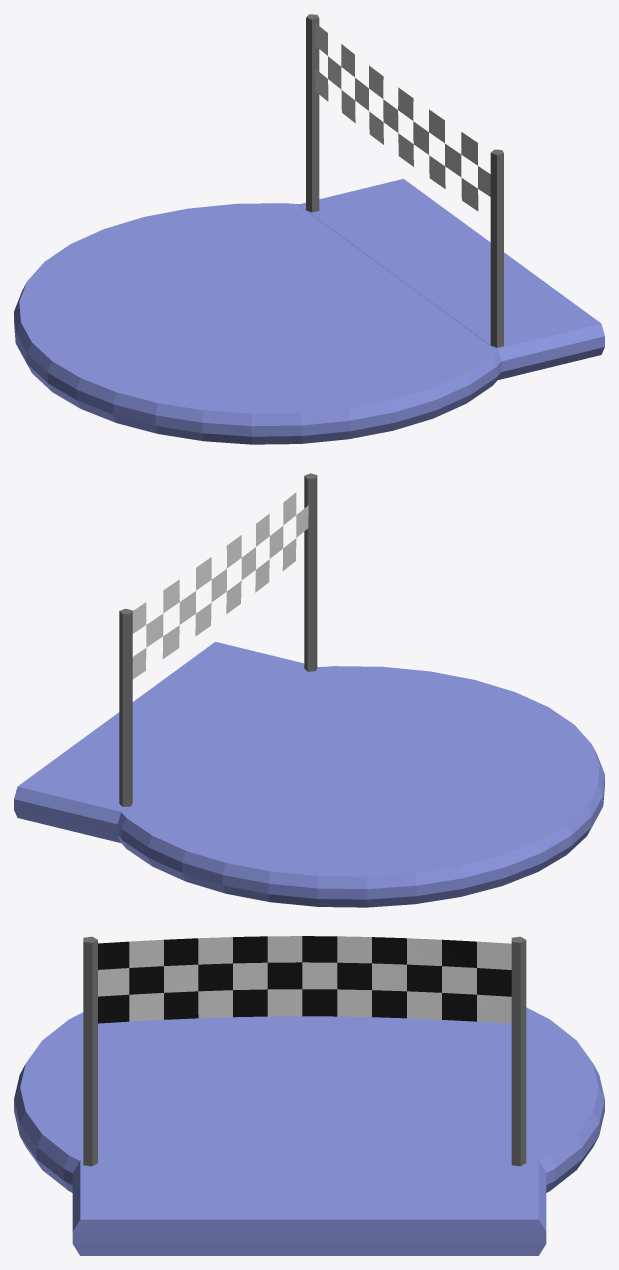
File: finisharea01.fbx
3 views of the same model, one above another, from view 1: azimuth 30°, elevation 25°; view 2: azimuth 150°, elevation 25°; view 3: azimuth 270°, elevation 25° (orthographic). The views are drawn at different scales.
Parts seen in each view (by area): view 1: finisharea01; view 2: finisharea01; view 3: finisharea01.
Boxes of the visible parts, x1,y1,x2,y2 form: finisharea01: (14, 14, 604, 444); finisharea01: (14, 473, 604, 907); finisharea01: (14, 936, 604, 1255).
Size of the model in its own units: 231 by 109 by 224.
